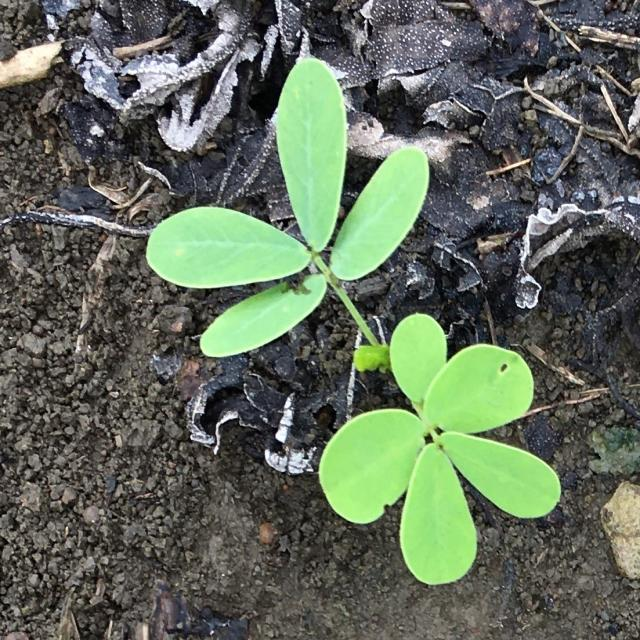Sicklepod: (146, 59, 562, 586)
